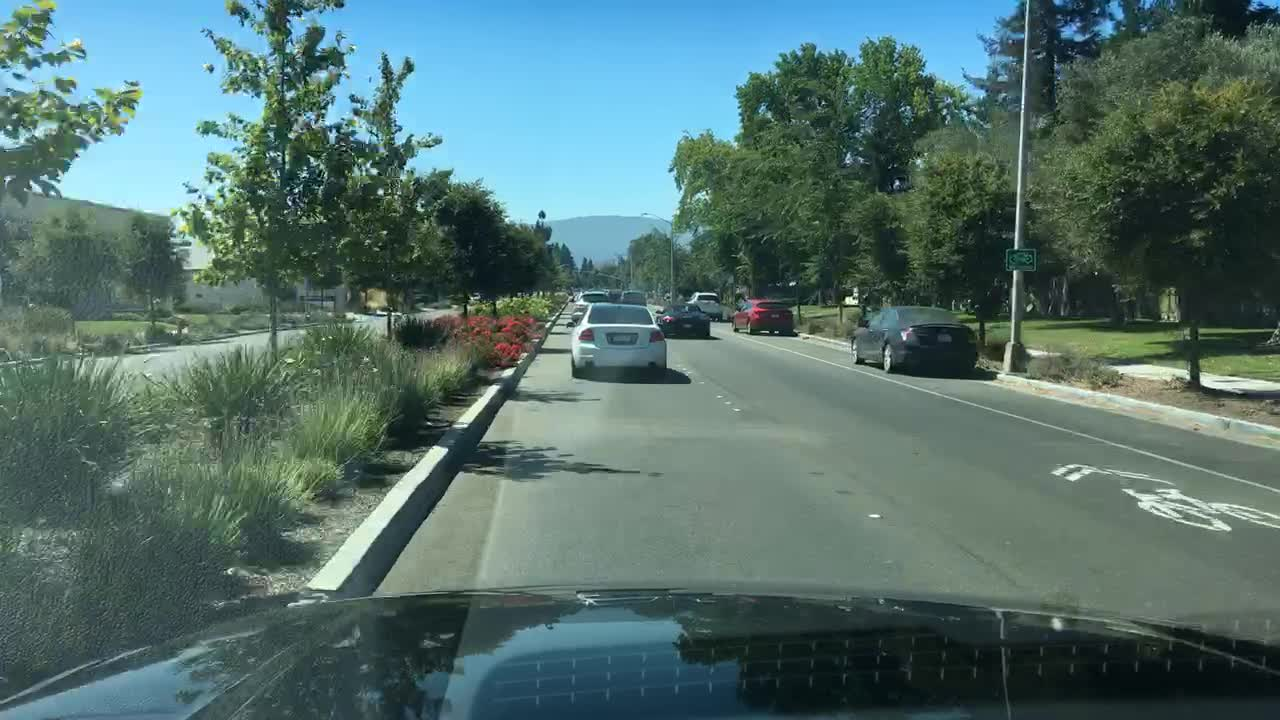car: (850, 303, 981, 377), (564, 302, 669, 378), (728, 296, 795, 337), (657, 302, 710, 338), (572, 289, 610, 322), (688, 291, 723, 321), (618, 288, 647, 307), (607, 289, 622, 302)
traffic sign: (1001, 247, 1038, 274)
